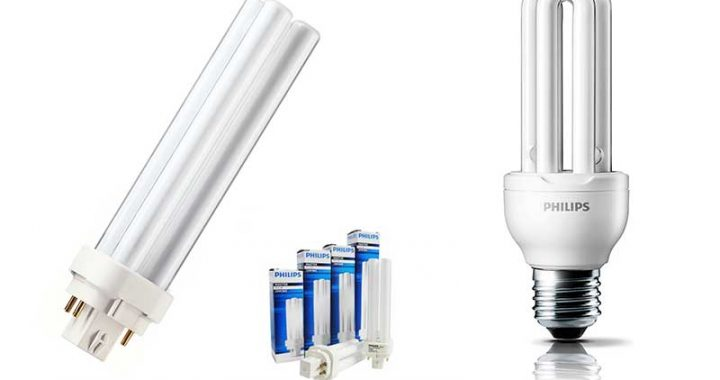Light_bulb: (65, 1, 321, 369), (502, 1, 632, 347), (359, 255, 396, 374)
